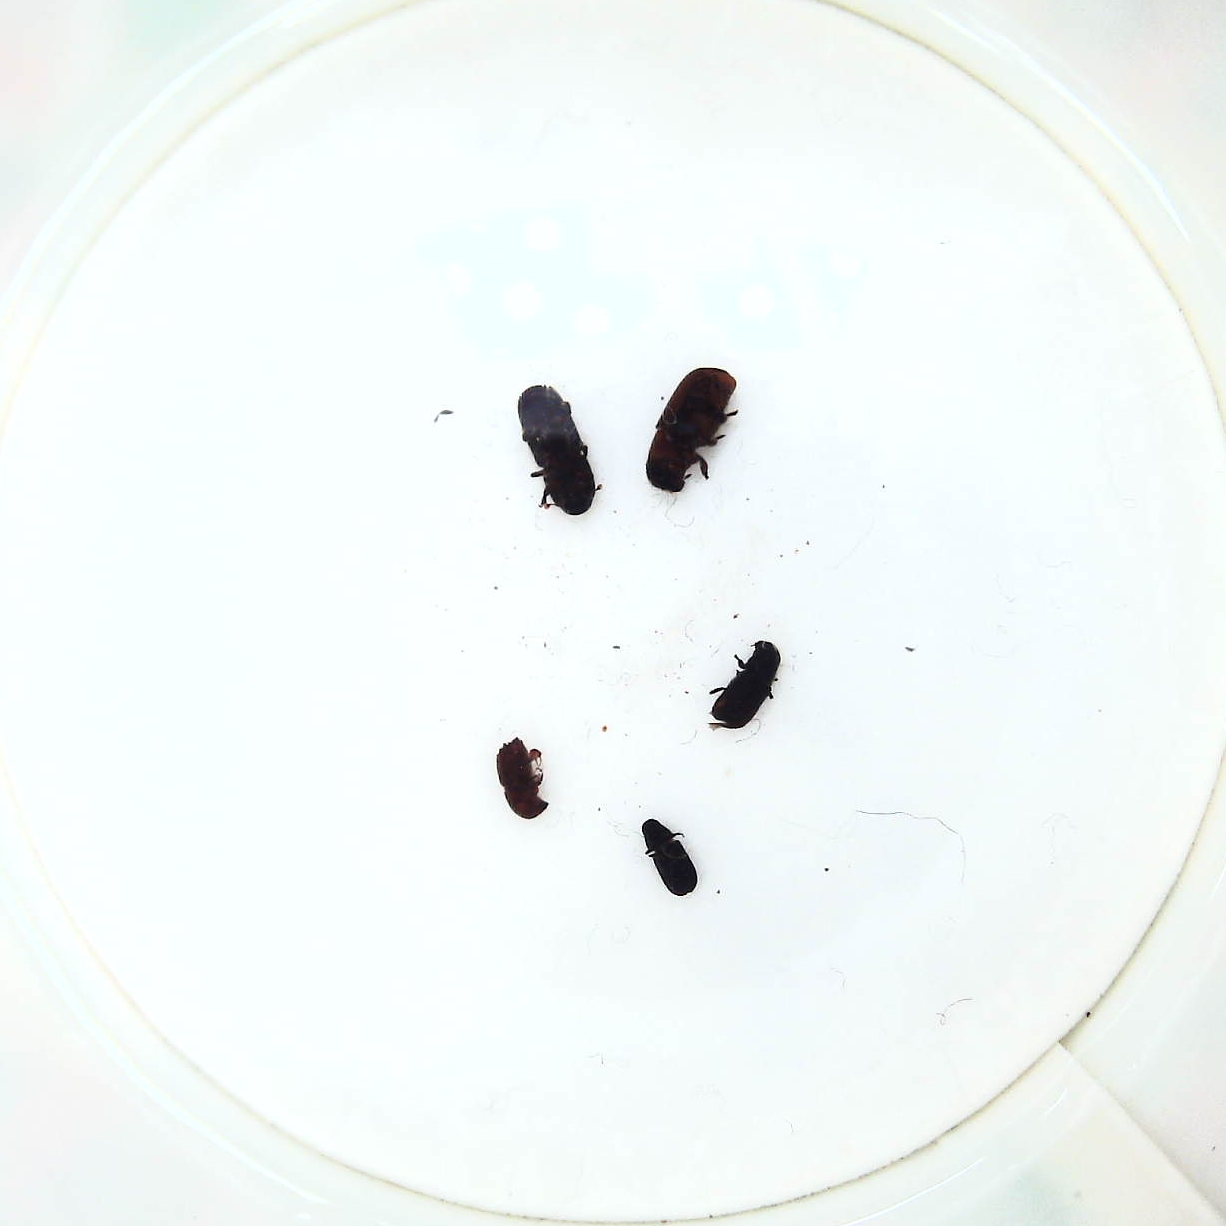Boerner: (509, 384, 604, 523)
Leconte: (640, 365, 743, 494)
armandi: (710, 635, 784, 733)
coleoptera: (635, 812, 704, 906)
linnaeus: (494, 733, 555, 823)
